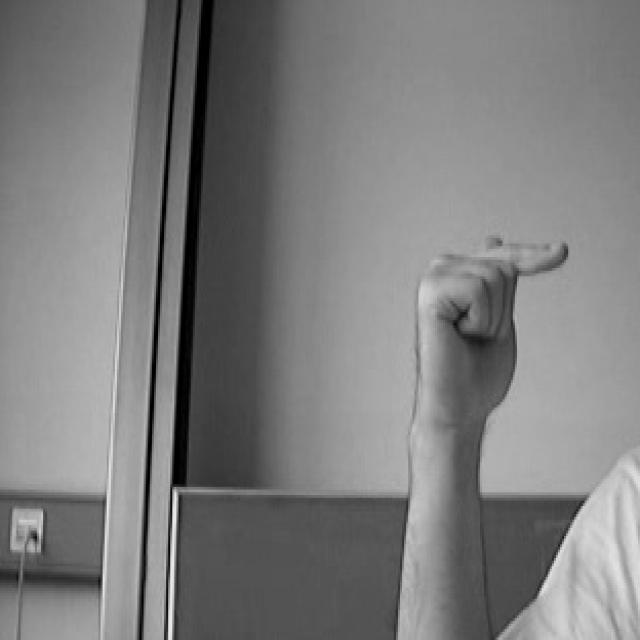T: (396, 225, 588, 426)
